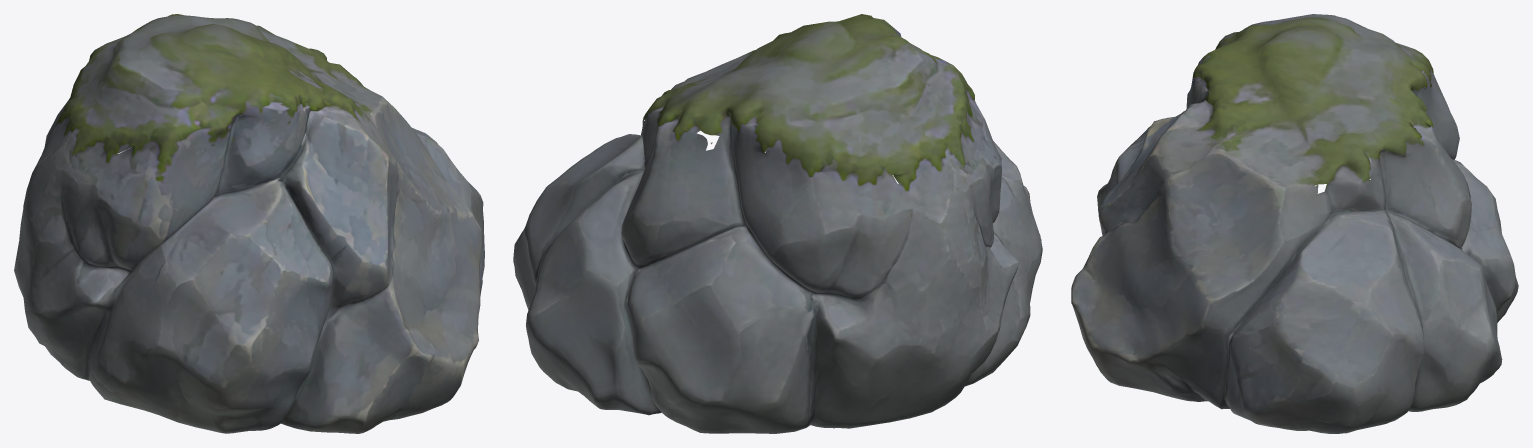
File: granite_boulder.glb
The picture shows the model from 3 angles, left to right: view 1: azimuth 30°, elevation 25°; view 2: azimuth 150°, elevation 25°; view 3: azimuth 270°, elevation 25°; orthographic projection. The views are drawn at different scales.
Visible parts, largest first — view 1: tripo_node_4fd1b37d; view 2: tripo_node_4fd1b37d; view 3: tripo_node_4fd1b37d.
Part boxes in pixels (bbox=[...]): tripo_node_4fd1b37d: bbox=[14, 14, 484, 433]; tripo_node_4fd1b37d: bbox=[513, 14, 1042, 433]; tripo_node_4fd1b37d: bbox=[1071, 14, 1518, 433].
Bounding box in the file's own units: 97.72 × 67.63 × 92.16.
Materials: 1 (1 with a texture image).
